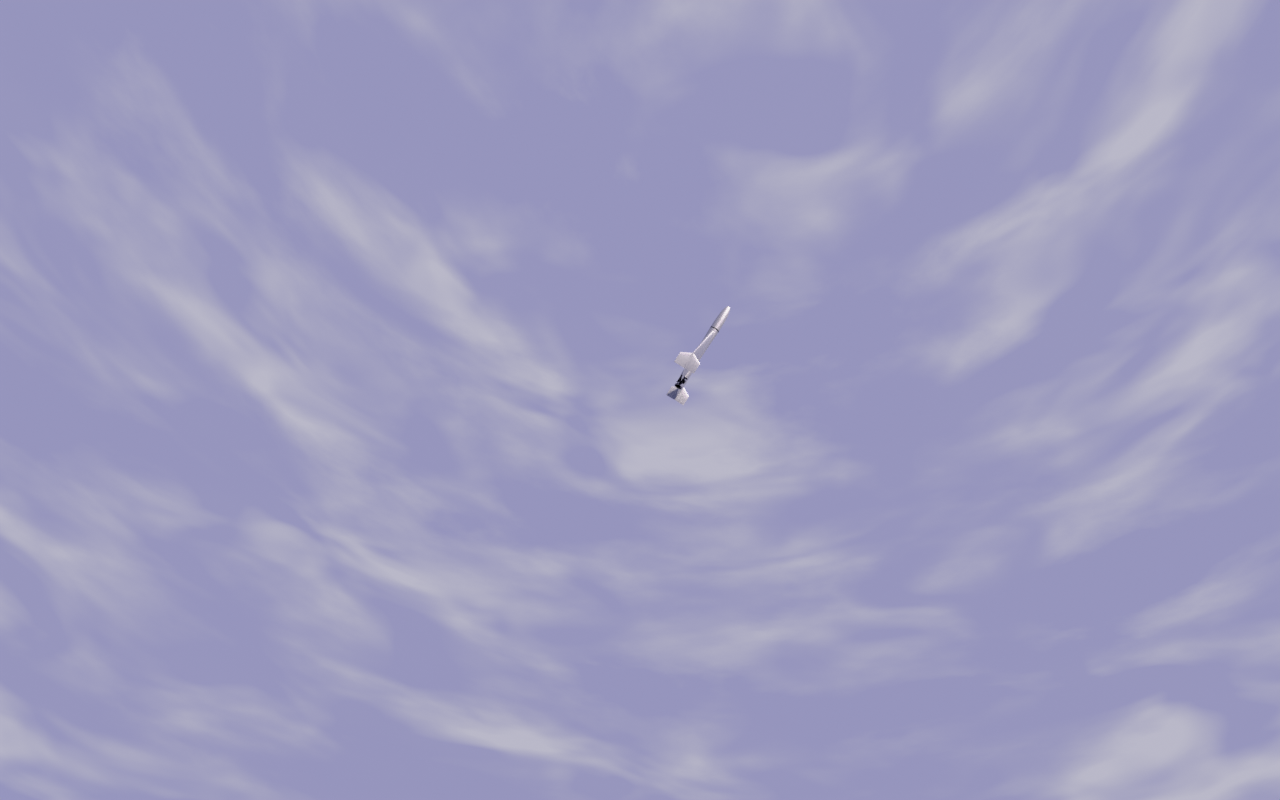shahed: (666, 306, 733, 407)
